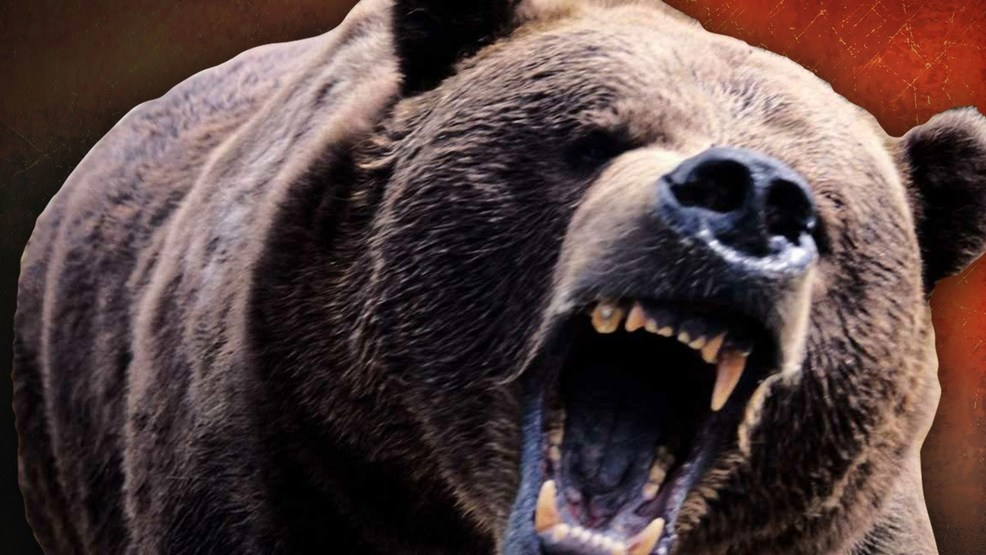bear: (338, 2, 982, 553)
